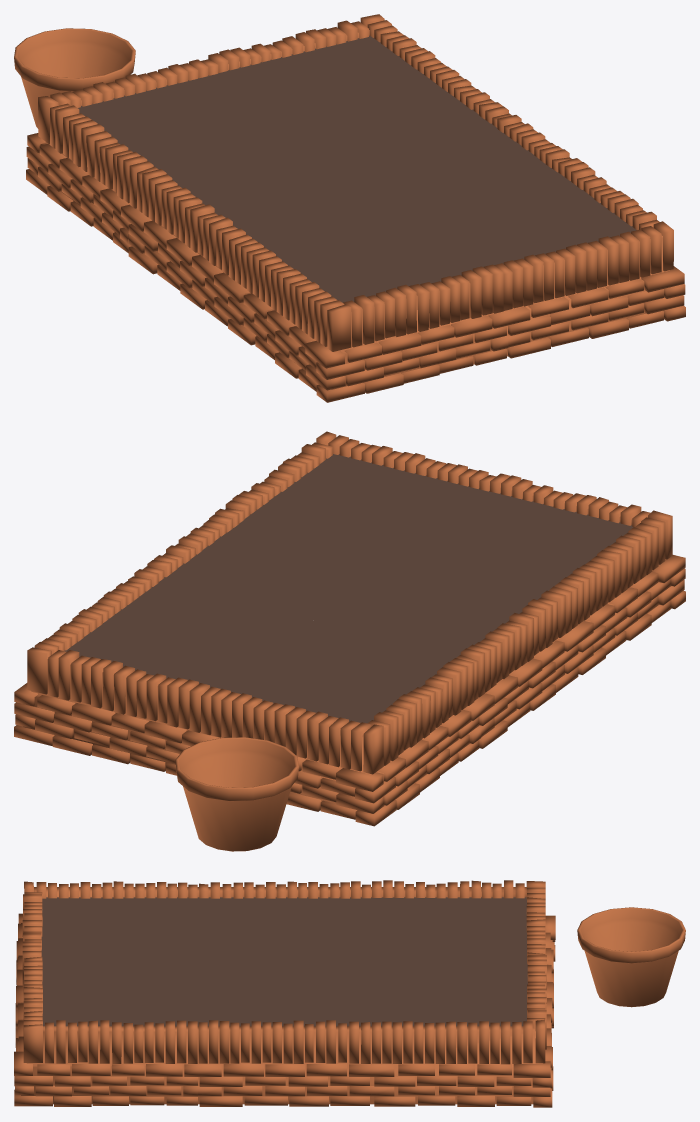
Rendered from plantationbed.fbx.
3 renders of one model, top to bottom at view 1: azimuth 30°, elevation 25°; view 2: azimuth 150°, elevation 25°; view 3: azimuth 270°, elevation 25°, orthographic. The views are drawn at different scales.
Parts seen in each view (by area): view 1: SM_PlantationCorner, SM_PlantationCorner.003, SM_PlantationCorner.001, SM_PlantationEdge, SM_PlantationCorner.002, SM_PlantationEdge.001, SM_PotEmpty; view 2: SM_PlantationCorner.001, SM_PlantationCorner.002, SM_PlantationCorner, SM_PlantationEdge, SM_PlantationCorner.003, SM_PlantationEdge.001, SM_PotEmpty; view 3: SM_PlantationCorner.002, SM_PlantationCorner.003, SM_PlantationEdge.001, SM_PlantationCorner.001, SM_PlantationCorner, SM_PlantationEdge, SM_PotEmpty.
Boxes of the visible parts, left/top/right/bottom form: SM_PlantationCorner: left=227, top=210, right=508, bottom=402; SM_PlantationCorner.003: left=405, top=158, right=685, bottom=358; SM_PlantationCorner.001: left=26, top=59, right=306, bottom=253; SM_PlantationEdge: left=128, top=138, right=404, bottom=326; SM_PlantationCorner.002: left=208, top=14, right=475, bottom=137; SM_PlantationEdge.001: left=307, top=89, right=571, bottom=209; SM_PotEmpty: left=14, top=28, right=135, bottom=128; SM_PlantationCorner.001: left=196, top=630, right=481, bottom=826; SM_PlantationCorner.002: left=14, top=581, right=299, bottom=775; SM_PlantationCorner: left=400, top=473, right=685, bottom=674; SM_PlantationEdge: left=300, top=557, right=580, bottom=748; SM_PlantationCorner.003: left=225, top=431, right=496, bottom=556; SM_PlantationEdge.001: left=128, top=508, right=399, bottom=629; SM_PotEmpty: left=175, top=737, right=298, bottom=851; SM_PlantationCorner.002: left=371, top=955, right=553, bottom=1107; SM_PlantationCorner.003: left=14, top=956, right=197, bottom=1106; SM_PlantationEdge.001: left=198, top=964, right=371, bottom=1106; SM_PlantationCorner.001: left=371, top=880, right=555, bottom=1028; SM_PlantationCorner: left=16, top=881, right=197, bottom=991; SM_PlantationEdge: left=198, top=881, right=371, bottom=963; SM_PotEmpty: left=577, top=907, right=685, bottom=1007.
Size of the model in its own units: 212 by 48.23 by 387.
